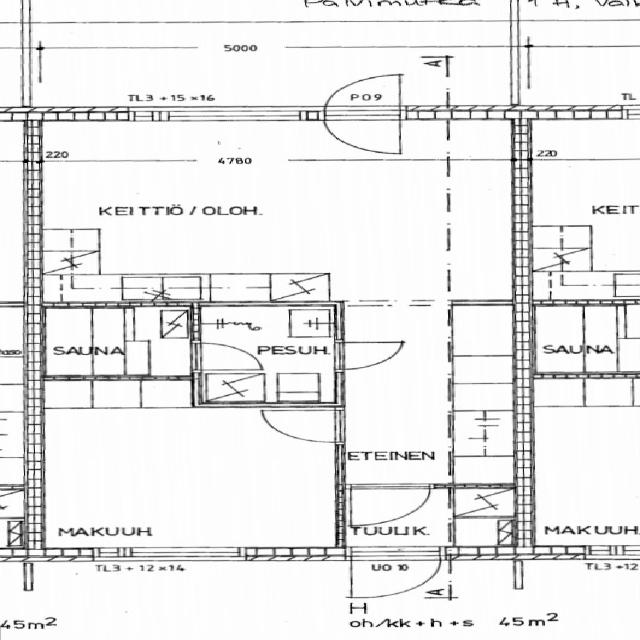door: (188, 322, 332, 386), (314, 72, 410, 158), (339, 543, 449, 600), (334, 480, 440, 530), (251, 403, 351, 446), (185, 339, 268, 375), (328, 337, 410, 371)
window: (100, 543, 251, 565), (152, 104, 300, 125)
zone: (21, 126, 468, 306), (26, 394, 347, 555), (509, 373, 640, 556), (514, 116, 640, 306), (191, 302, 346, 406), (36, 303, 194, 382), (523, 304, 640, 376), (517, 45, 638, 112), (0, 486, 37, 550)
